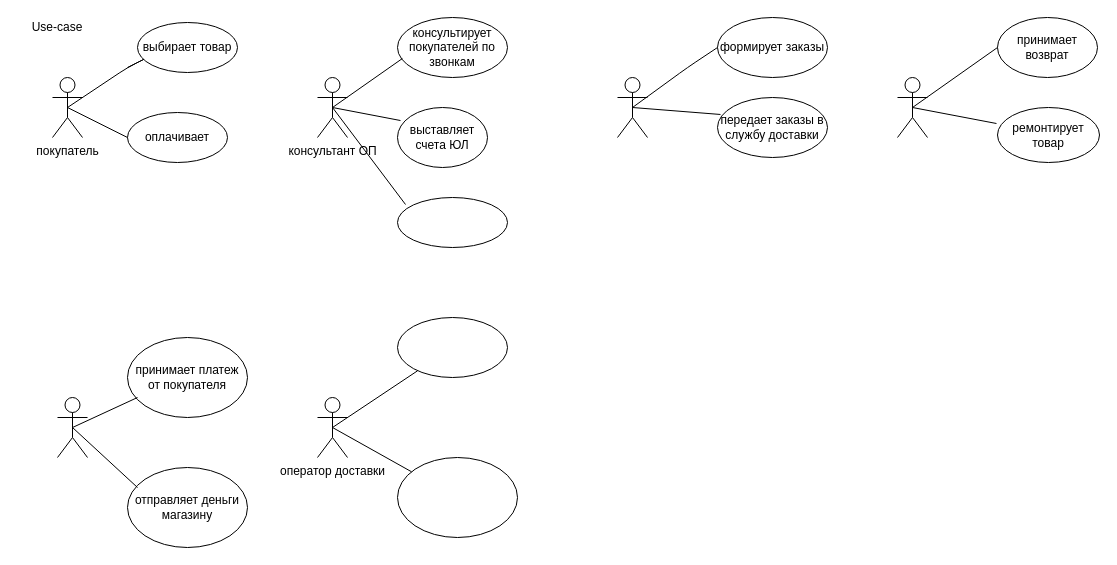
Image size: 1117x565. Some labels were removed from this diagram. The shapes that lost their labels are listed below. From the top down, each one's centre as x and y in pixels, then its label:
the point at 632,107: сотрудник склада
the point at 912,107: пост-продажный сервис
the point at 452,222: переадресовывает звонки в ППС
the point at 452,347: принимает товар от магазина
the point at 72,427: банк
the point at 457,497: доставляет товар до покупателя
